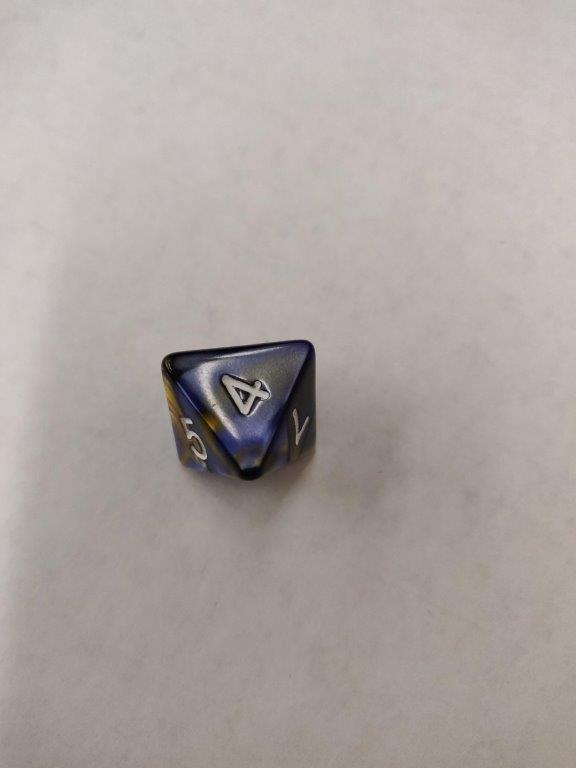d8-4: (160, 336, 323, 474)
